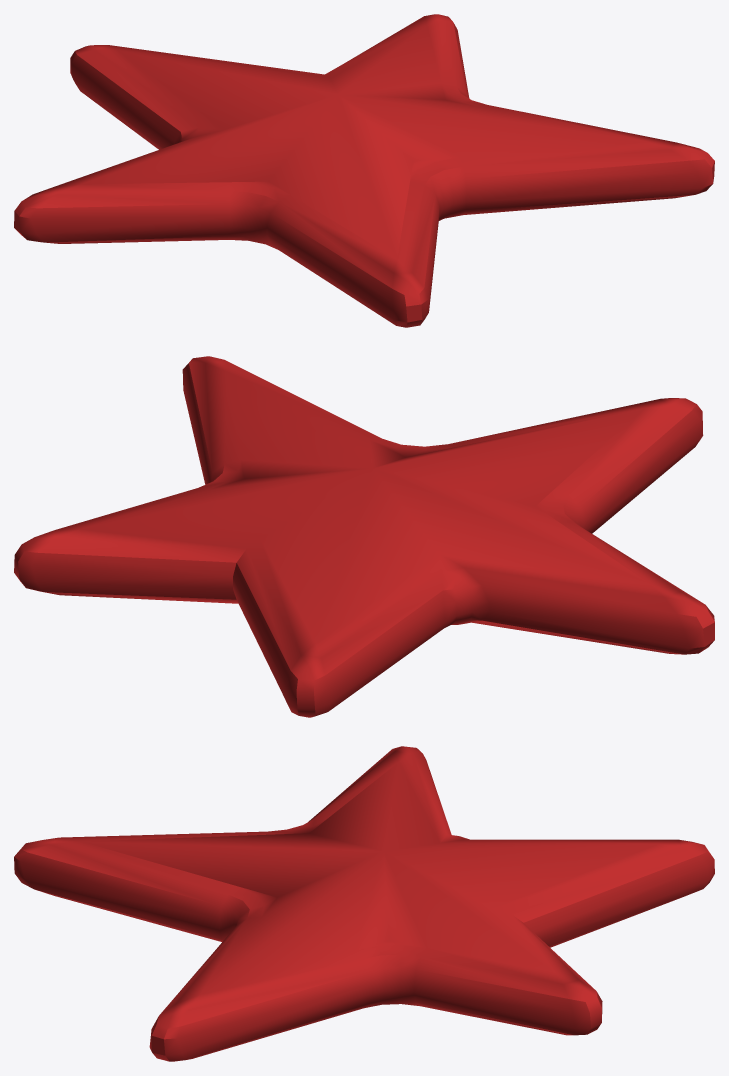
The model's file is zvezda1.fbx.
3 views of the same model, one above another, from view 1: azimuth 30°, elevation 25°; view 2: azimuth 150°, elevation 25°; view 3: azimuth 270°, elevation 25° (orthographic). The views are drawn at different scales.
Parts seen in each view (by area): view 1: zvezda1; view 2: zvezda1; view 3: zvezda1.
Part boxes in pixels (x1=…): zvezda1: x1=14, y1=14, x2=714, y2=327; zvezda1: x1=14, y1=356, x2=714, y2=717; zvezda1: x1=14, y1=746, x2=714, y2=1061.
Size of the model in its own units: 33.83 by 6.87 by 34.79.
